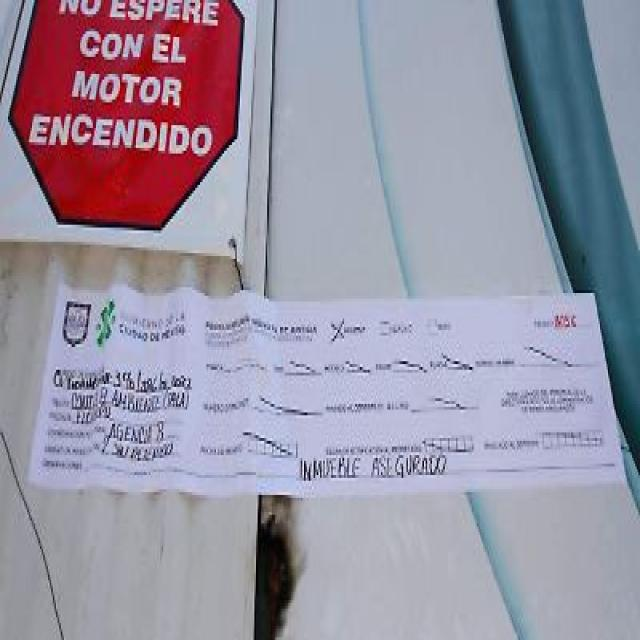stamps: (30, 292, 621, 479)
